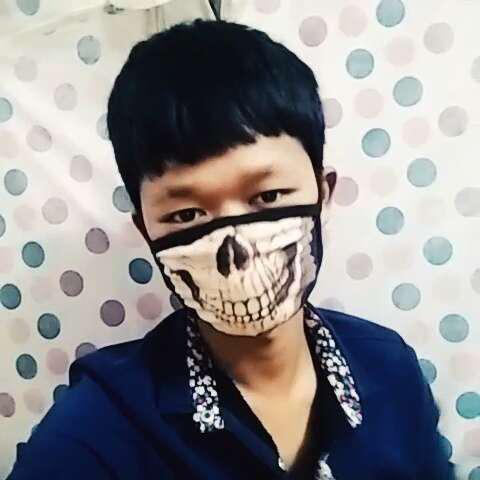OK: (145, 150, 326, 331)
